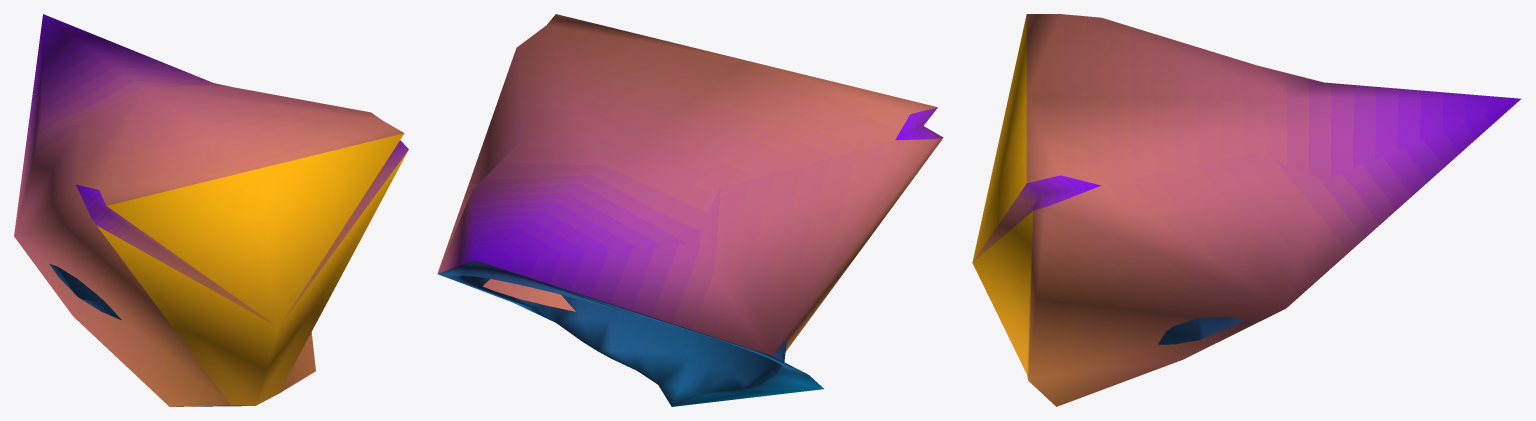
Rendered from probe.fbx.
3 views of the same model, side by side, from view 1: azimuth 30°, elevation 25°; view 2: azimuth 150°, elevation 25°; view 3: azimuth 270°, elevation 25° (orthographic). The views are drawn at different scales.
Parts seen in each view (by area): view 1: probe; view 2: probe; view 3: probe.
Boxes of the visible parts, bbox=[...] form: probe: bbox=[14, 14, 408, 406]; probe: bbox=[437, 14, 943, 406]; probe: bbox=[972, 14, 1521, 406].
Size of the model in its own units: 1.91 by 2.49 by 1.4.
